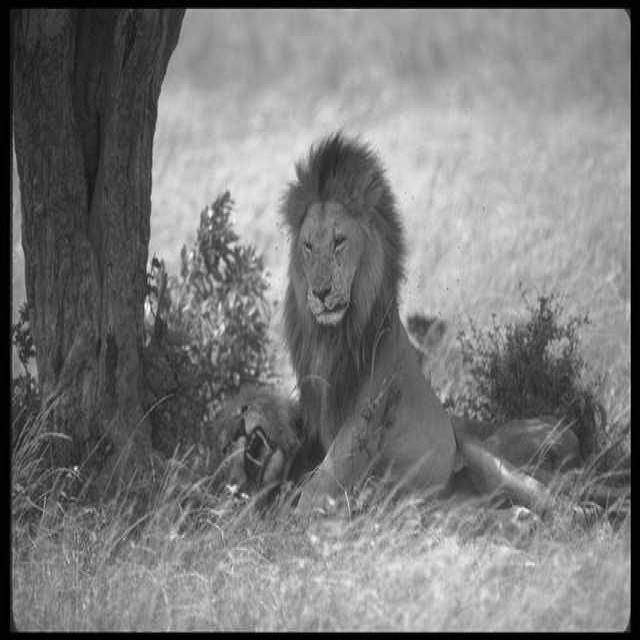Lion: (222, 109, 446, 513)
